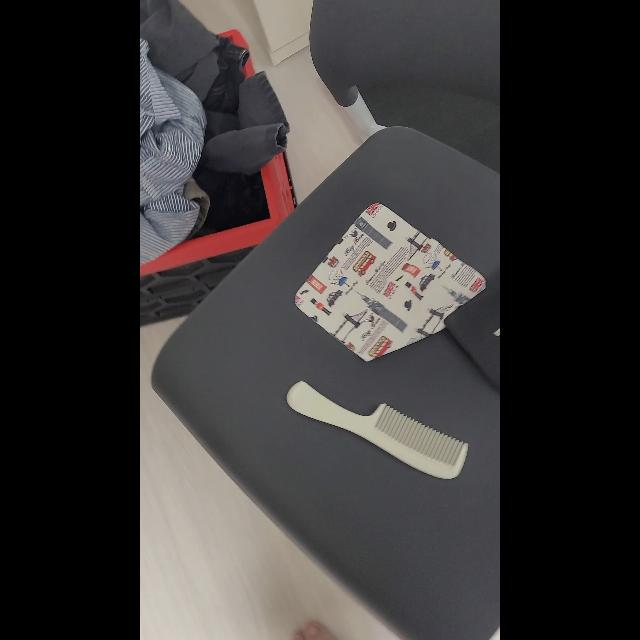COMB: (286, 381, 468, 479)
Glasses cleaning cloth: (294, 202, 486, 362)
WALLET: (444, 280, 500, 388)
